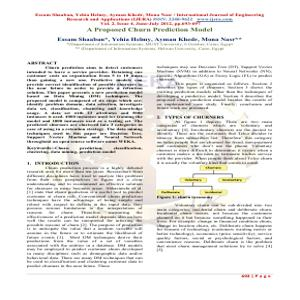diagram: (156, 165, 257, 196)
text: (23, 58, 145, 270), (151, 64, 275, 164), (33, 11, 268, 55), (155, 196, 274, 254)
